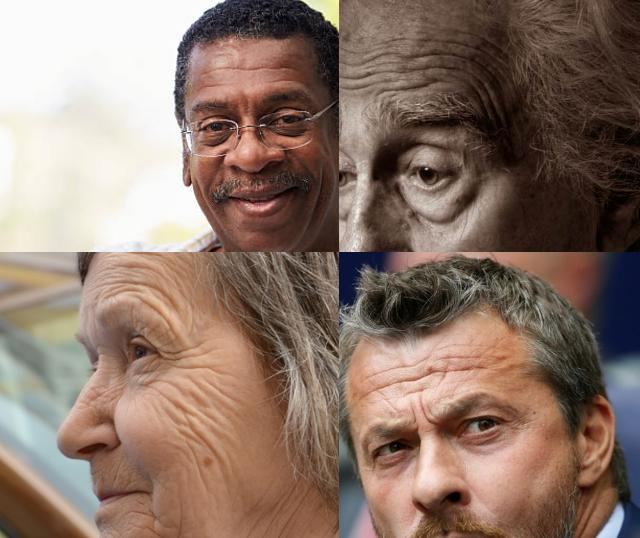bunny_line: (89, 381, 118, 405)
chin: (132, 501, 162, 533)
crows_feet: (159, 344, 189, 376)
forehead: (408, 43, 492, 95), (339, 59, 394, 92), (122, 260, 162, 298), (210, 60, 300, 74), (410, 354, 440, 396), (444, 350, 488, 378), (363, 380, 405, 396), (94, 275, 120, 300), (365, 360, 405, 375), (152, 305, 175, 329), (100, 252, 117, 267)
frown_line: (409, 402, 435, 430), (240, 93, 252, 116)
masseter: (257, 503, 289, 538), (194, 376, 226, 404), (311, 172, 327, 226), (174, 401, 198, 437), (202, 434, 226, 467), (190, 177, 208, 209), (168, 509, 186, 538)
smoker_lines: (104, 461, 128, 486)
